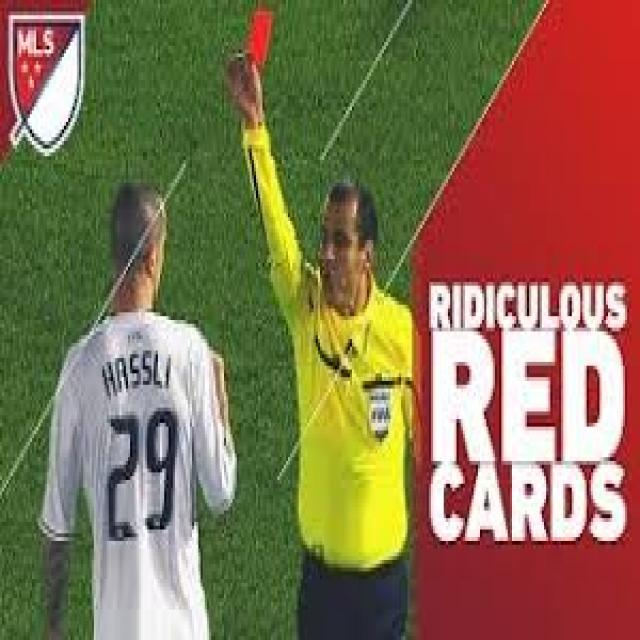red-card: (222, 1, 287, 148)
